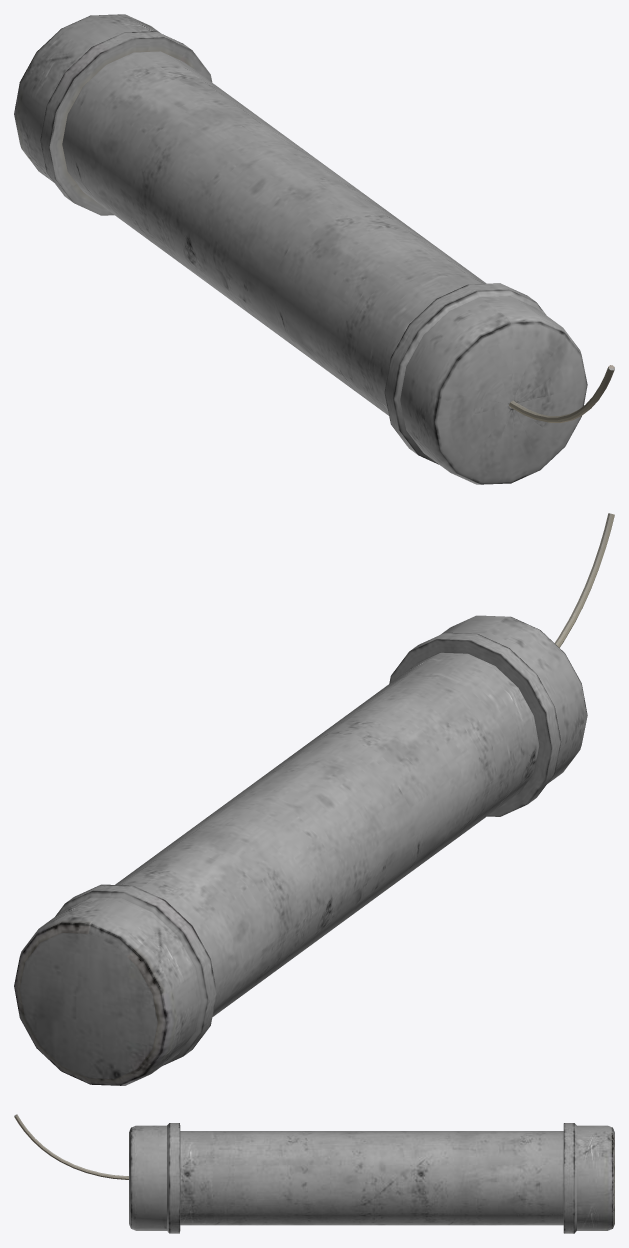
The model's file is pipe_bomb.glb.
3 renders of one model, top to bottom at view 1: azimuth 30°, elevation 25°; view 2: azimuth 150°, elevation 25°; view 3: azimuth 270°, elevation 25°, orthographic. The views are drawn at different scales.
Parts seen in each view (by area): view 1: Pipe_Bomb; view 2: Pipe_Bomb; view 3: Pipe_Bomb.
Boxes of the visible parts, <box> form: Pipe_Bomb: <box>14,14,614,484</box>; Pipe_Bomb: <box>14,513,614,1085</box>; Pipe_Bomb: <box>14,1114,614,1233</box>.
Bounding box in the file's own units: 0.0623 × 0.0706 × 0.338.
Materials: 1 (1 with a texture image).
